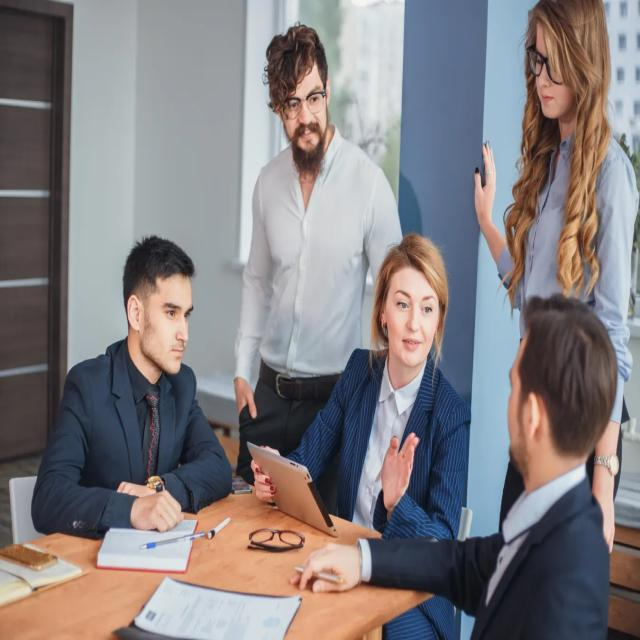non_violence: (12, 213, 634, 640), (221, 12, 640, 586), (41, 32, 434, 601)
